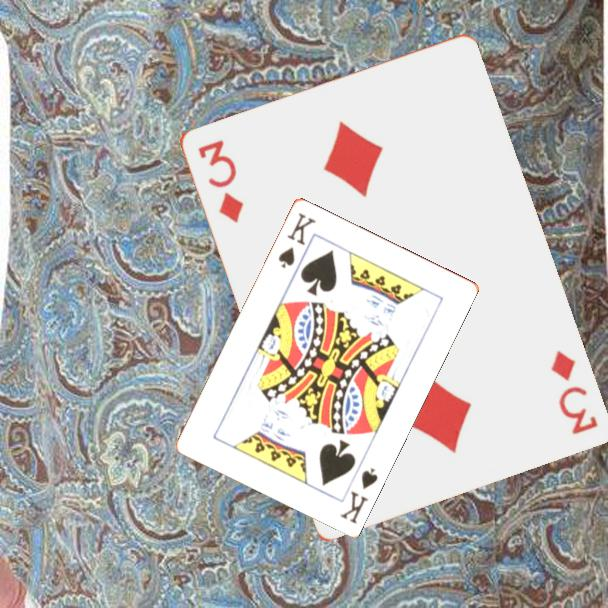d03: (547, 347, 601, 437), (193, 136, 246, 226)
s13: (274, 209, 319, 271), (336, 464, 381, 526)
